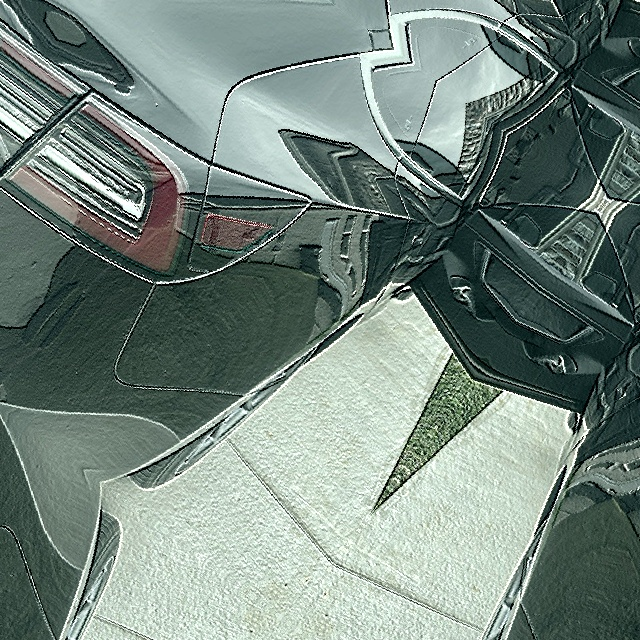reflector: (191, 190, 276, 274)
